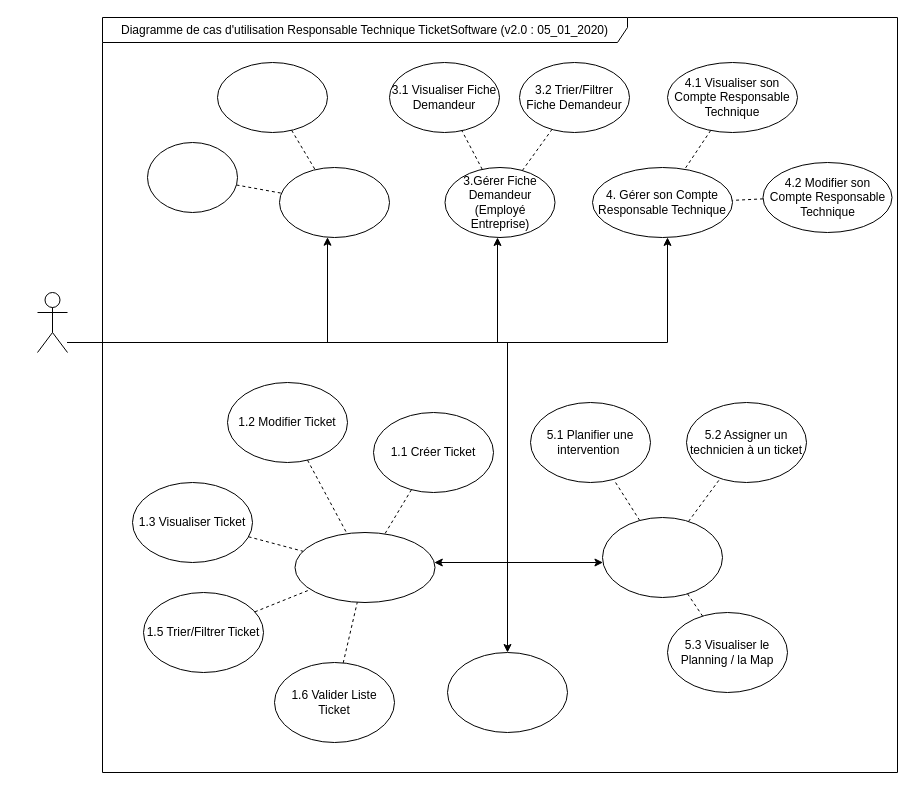
Some shapes in this 915 by 790 pixel diagram are drawn without their labels. The shapes that lost their labels are listed below. From the top down, each one's centre as x and y in pixels, then its label:
At point 272,97: "2.2 Trier/Filtrer Fiche Client".
At point 192,177: "2.1 Visualiser Fiche Client".
At point 334,202: "2.Gérer Fiche Client (Entreprise)".
At point 52,322: "Responsable Technique".
At point 364,567: "1. Gérer Ticket".
At point 662,557: "5. Intervention".
At point 507,692: "6. Visualiser les statistiques".
